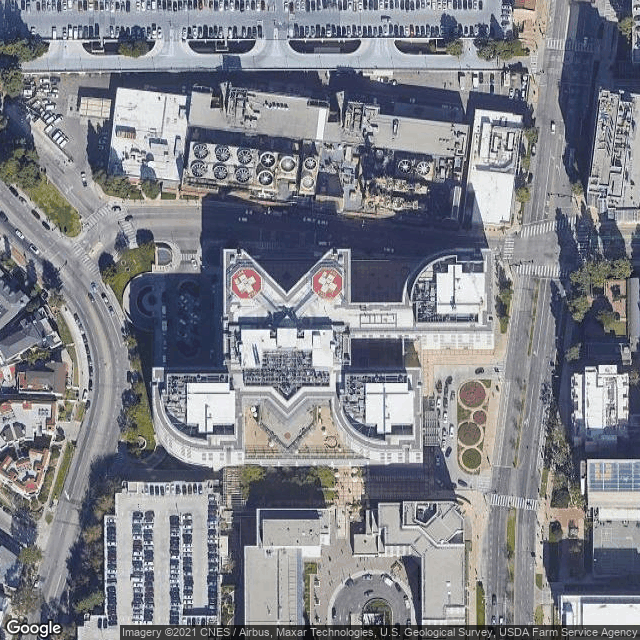Helipad: (306, 263, 348, 302), (225, 264, 265, 303)
